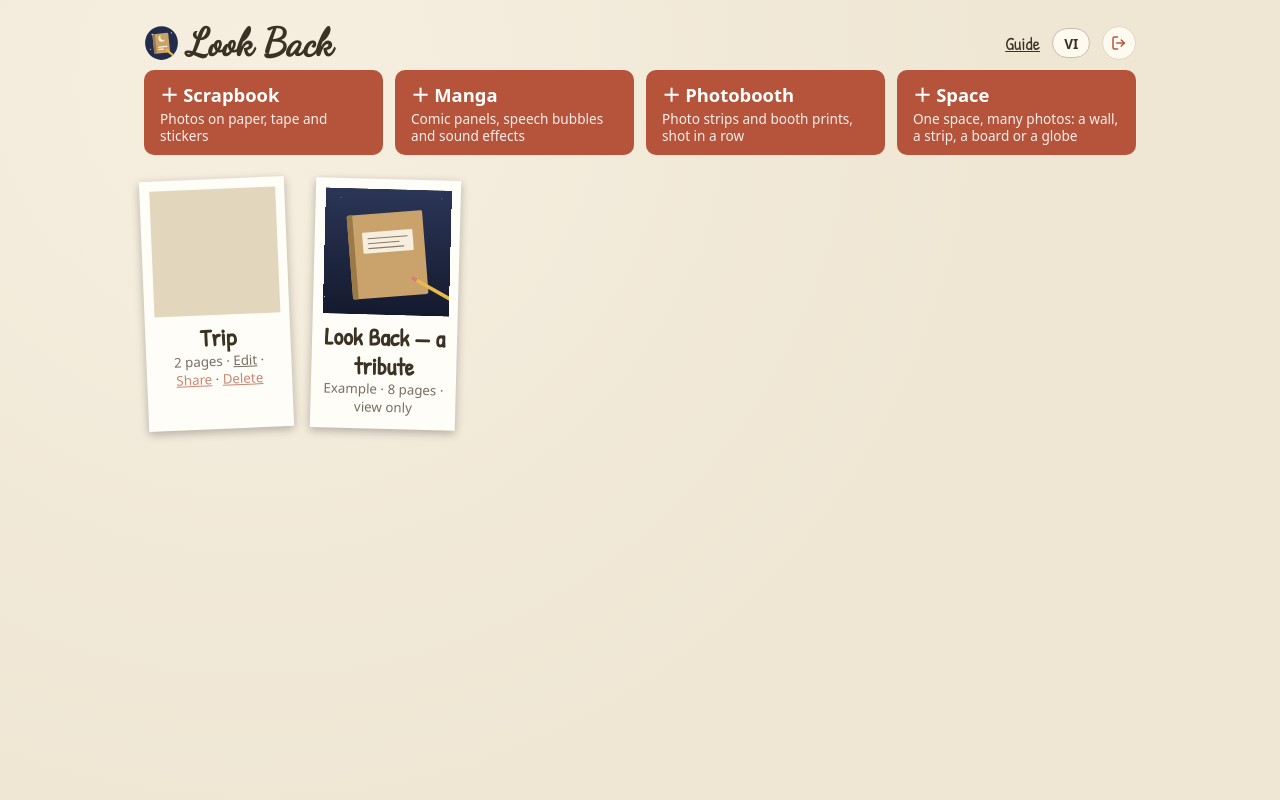
Test: Share creates a link the owner can copy, and Stop sharing revokes it
Step 1. Click the button with aria-label "Share Trip" → (194, 379), box [176,370,212,389]
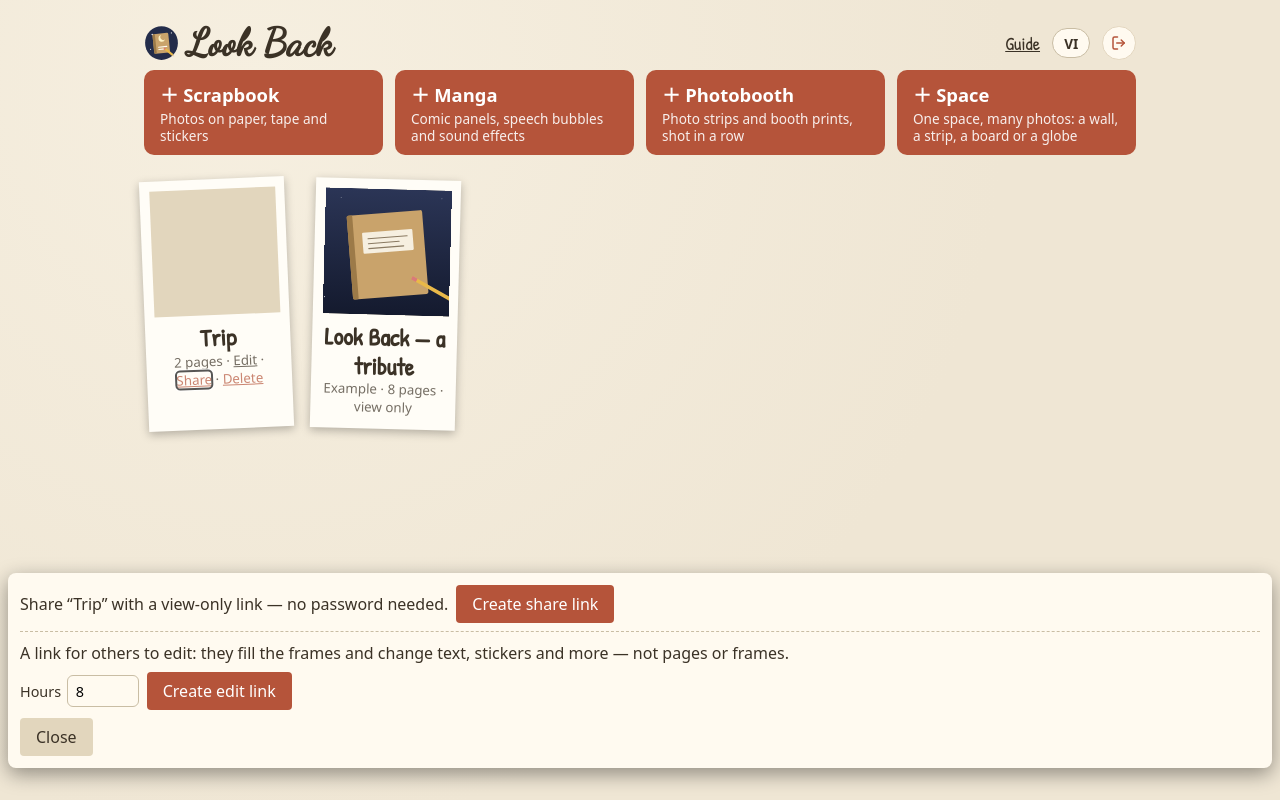
Step 2. Click the button "Create share link" → (535, 604), box [456,585,614,623]
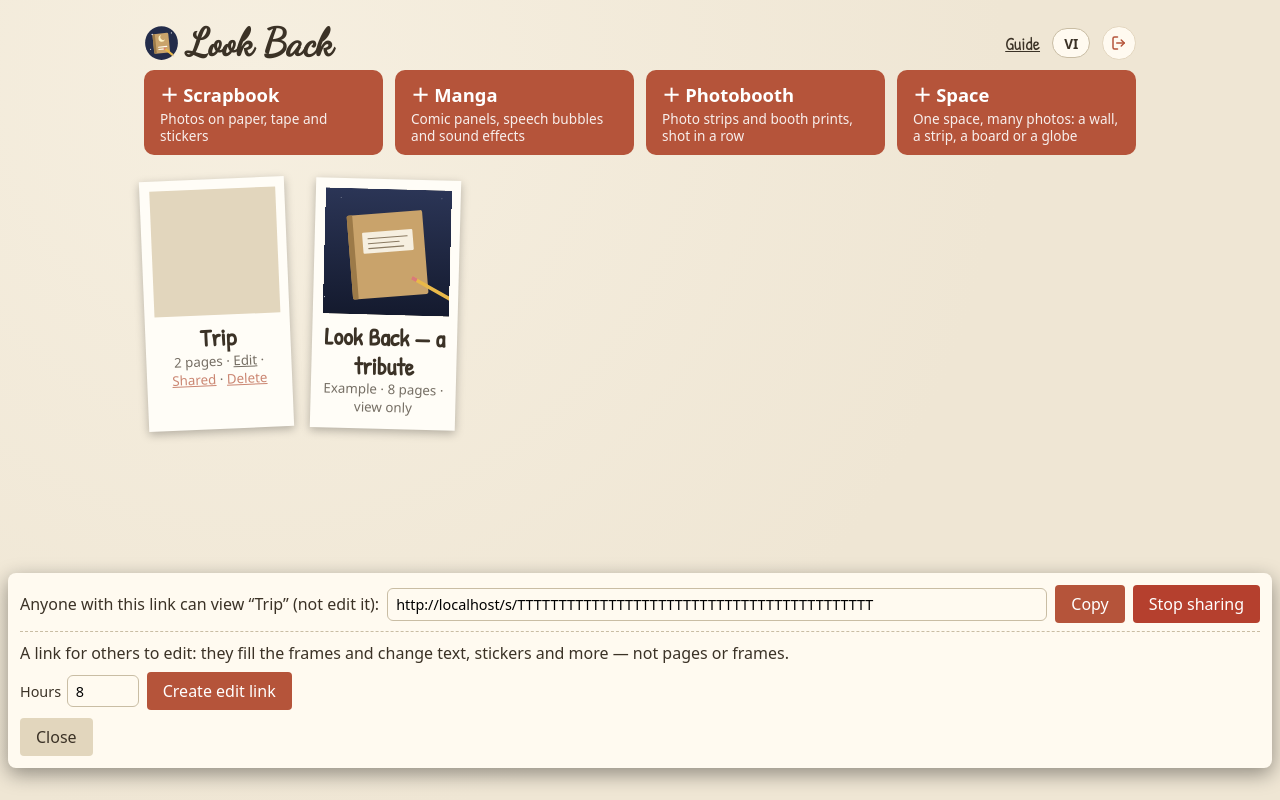
Step 3. Click the button "Stop sharing" → (1196, 604), box [1133,585,1260,623]
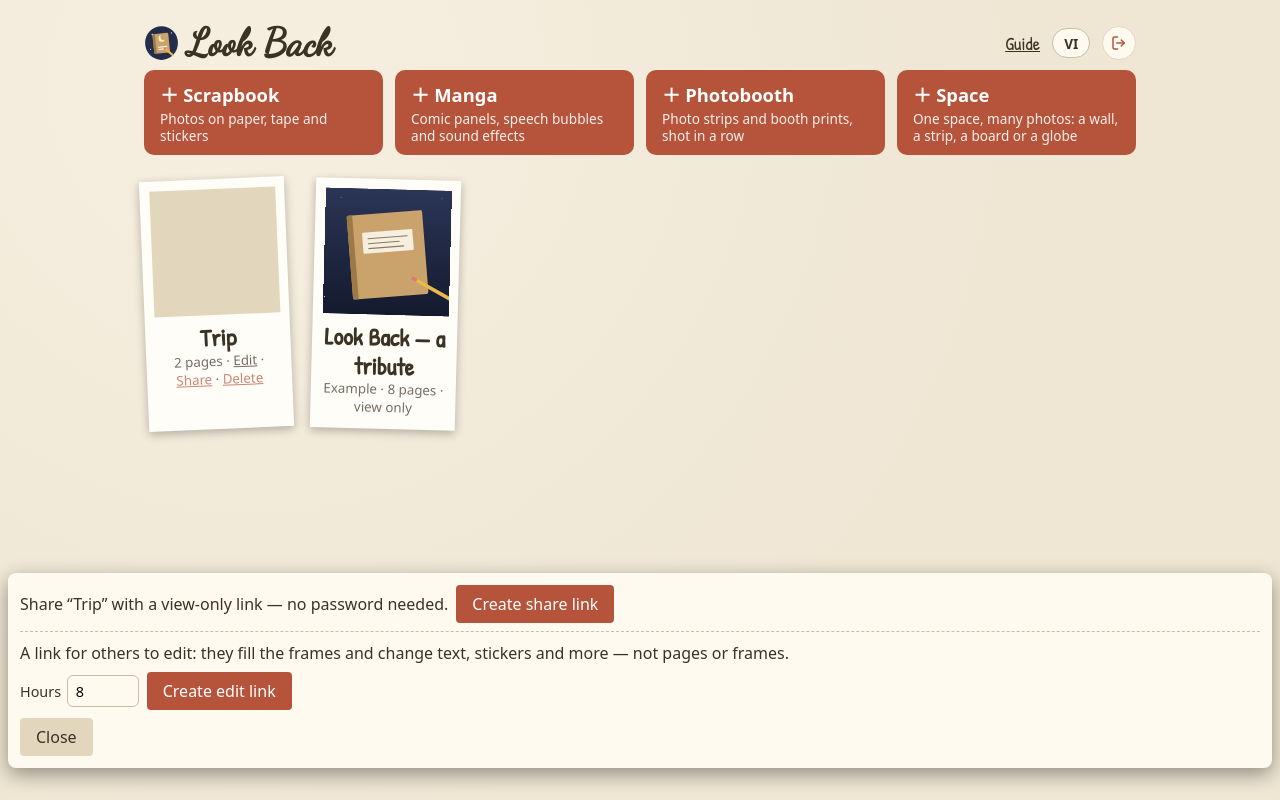
Expected: the button "Create share link" is shown, [456,585,614,623]
